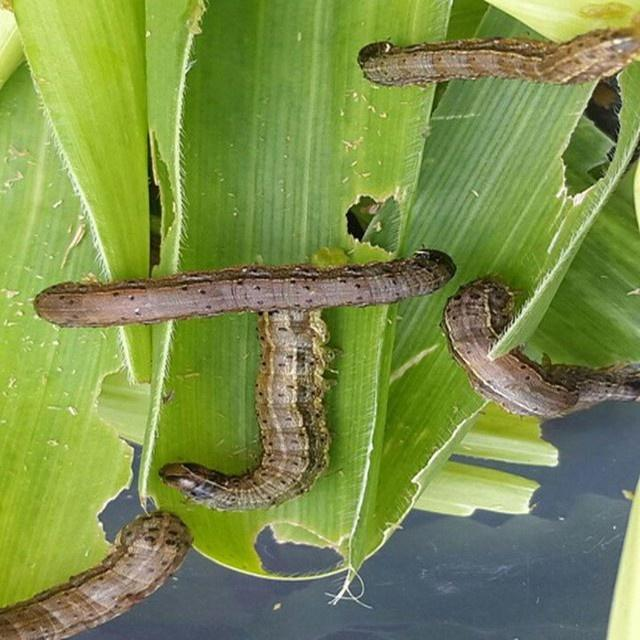worm: (156, 252, 375, 514), (33, 246, 457, 337), (439, 274, 640, 422), (1, 509, 195, 640), (357, 9, 640, 90)
